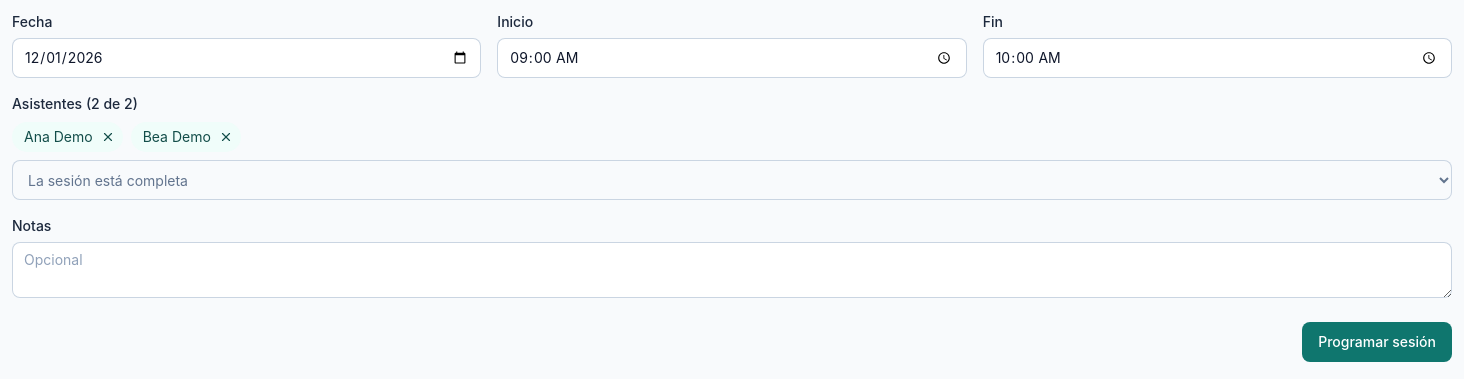
Test: SessionForm › AC-004-01: no deja superar la capacidad y permite quitar asistentes
Expected: the text "Asistentes (2 de 2)" is shown, x1=12 y1=94 x2=138 y2=114
Expected: the dropdown named "Añadir asistente" is disabled, x1=12 y1=160 x2=1452 y2=200
Click the button named "Quitar a Ana Demo". click: [108, 137]
box: x1=97 y1=126 x2=119 y2=148
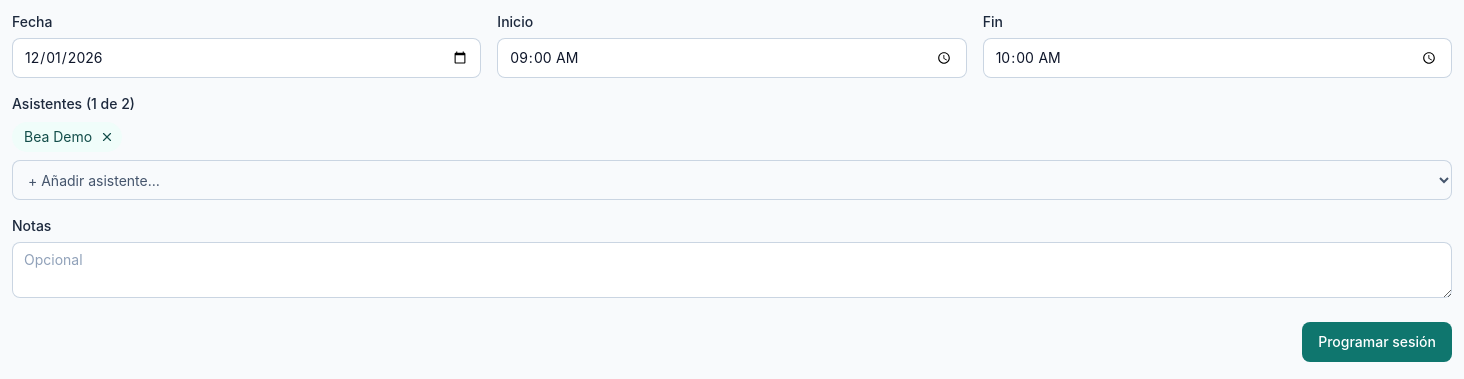
Result: the dropdown named "Añadir asistente" is enabled at x1=12 y1=160 x2=1452 y2=200
Result: the text "Asistentes (1 de 2)" is shown at x1=12 y1=94 x2=135 y2=114
